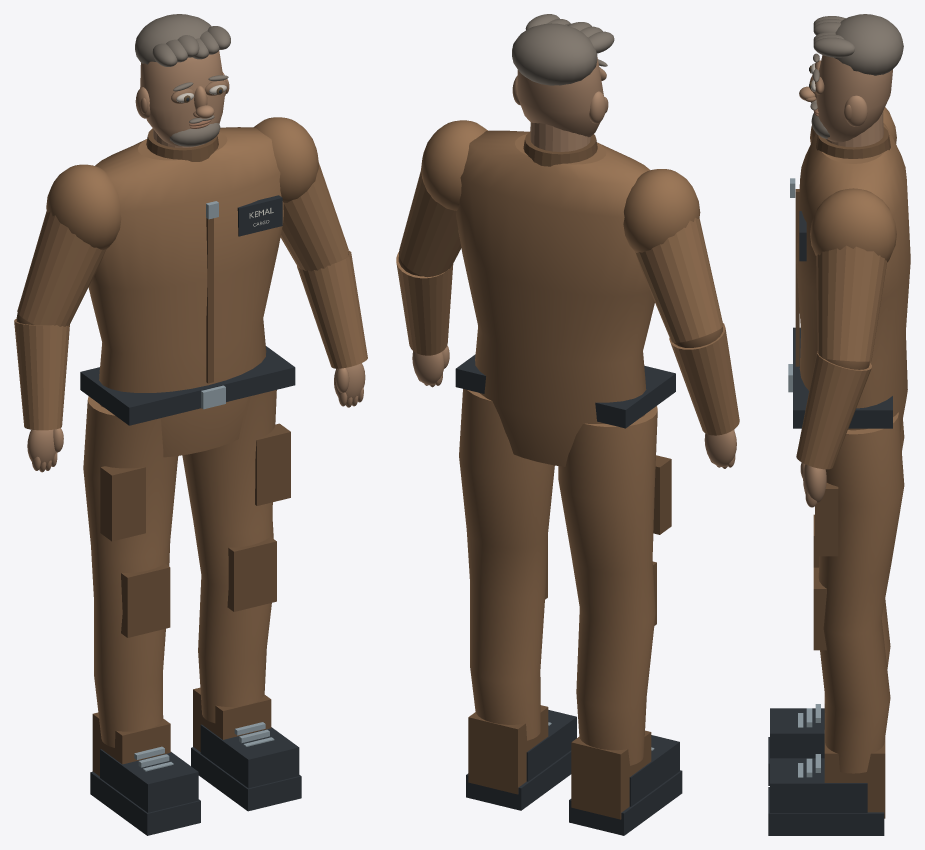
File: Kemal.glb
3 renders of one model, left to right at view 1: azimuth 30°, elevation 25°; view 2: azimuth 150°, elevation 25°; view 3: azimuth 270°, elevation 25°, orthographic. The views are drawn at different scales.
Visible parts, largest first — view 1: Tailored torso.004, Trouser leg.008, Trouser leg.009, Upper sleeve.008, Utility belt.004, Forearm sleeve.008, Forearm sleeve.009, Shoulder seam.008, Upper sleeve.009, Head.004, Boot toe.009, Boot toe.008 (+15 smaller); view 2: Tailored torso.004, Trouser leg.008, Trouser leg.009, Upper sleeve.008, Shoulder seam.008, Boot ankle.009, Forearm sleeve.008, Boot ankle.008, Scalp hair.003, Upper sleeve.009, Forearm sleeve.009, Head.004 (+11 smaller); view 3: Trouser leg.009, Tailored torso.004, Upper sleeve.009, Forearm sleeve.009, Shoulder seam.009, Boot toe.009, Head.004, Scalp hair.003, Boot sole.009, Boot toe.008, Boot ankle.009, Utility belt.004 (+12 smaller).
Boxes of the visible parts, x1,y1,x2,y2 form: Tailored torso.004: (88,127,283,457); Trouser leg.008: (83,396,178,747); Trouser leg.009: (182,390,276,723); Upper sleeve.008: (17,211,106,326); Utility belt.004: (80,346,295,425); Forearm sleeve.008: (14,319,69,430); Forearm sleeve.009: (297,250,367,368); Shoulder seam.008: (46,164,121,249); Upper sleeve.009: (280,162,348,271); Head.004: (140,50,225,146); Boot toe.009: (200,724,299,788); Boot toe.008: (100,749,198,812); Tailored torso.004: (456,130,654,466); Trouser leg.008: (558,406,657,765); Trouser leg.009: (459,389,554,740); Upper sleeve.008: (635,217,723,342); Shoulder seam.008: (623,169,700,252); Boot ankle.009: (468,705,548,794); Forearm sleeve.008: (669,323,739,435); Boot ankle.008: (571,730,651,819); Scalp hair.003: (512,23,597,85); Upper sleeve.009: (398,171,461,277); Forearm sleeve.009: (396,252,453,355); Head.004: (516,57,603,137); Trouser leg.009: (818,412,904,773); Tailored torso.004: (796,123,910,431); Upper sleeve.009: (816,245,886,361); Forearm sleeve.009: (796,351,871,469); Shoulder seam.009: (810,188,896,262); Boot toe.009: (770,758,867,812); Head.004: (816,55,892,142); Scalp hair.003: (834,14,903,75); Boot sole.009: (768,787,884,835); Boot toe.008: (770,708,824,758); Boot ankle.009: (824,730,885,818); Utility belt.004: (793,327,892,428).
Size of the model in its own units: 0.5483 by 1.22 by 0.2024.
